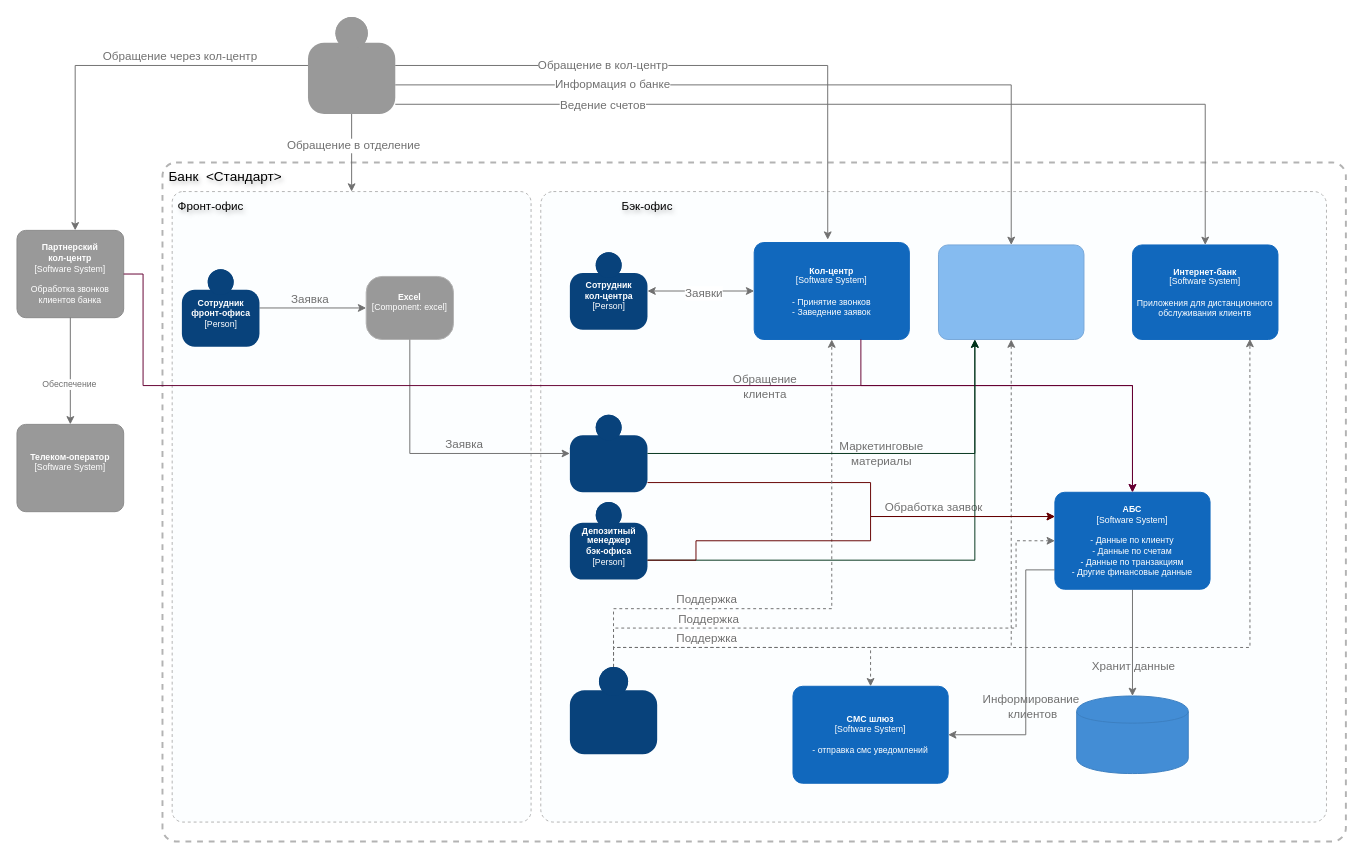
The diagram is 1364 pixels wide and 858 high, and some of its shapes have lost their labels. Each missing label, with the centre of its shape:
"Database [Container: Oracle] База данных АБС" belongs at pixel 1132 734.
"Клиент [Person]" belongs at pixel 351 64.
"Кредитный менеджер бэк-офиса [Person]" belongs at pixel 608 453.
"Сайт [Component: PHP / React.js] Сайт банка" belongs at pixel 1011 292.
"Сотрудник IT-отдела [Person]" belongs at pixel 613 710.
